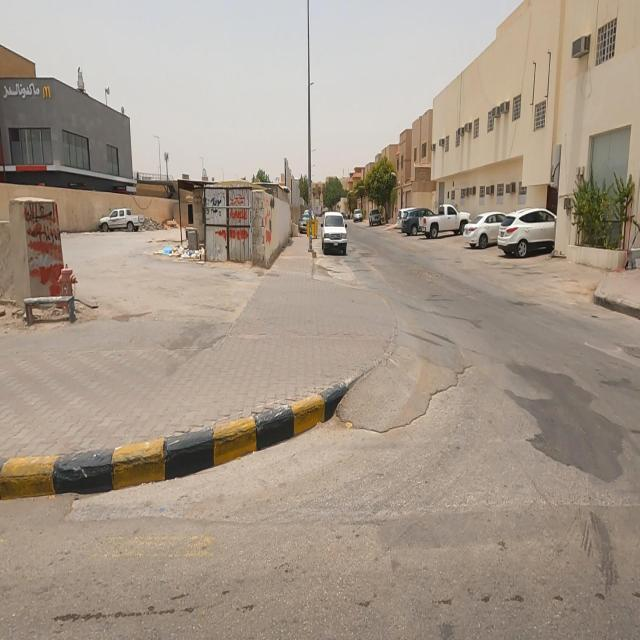Graffiti: (25, 203, 61, 296), (229, 190, 250, 242), (268, 199, 276, 247), (211, 198, 223, 219), (217, 230, 228, 244)
